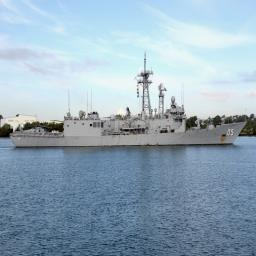Fragata: (10, 47, 248, 150)
